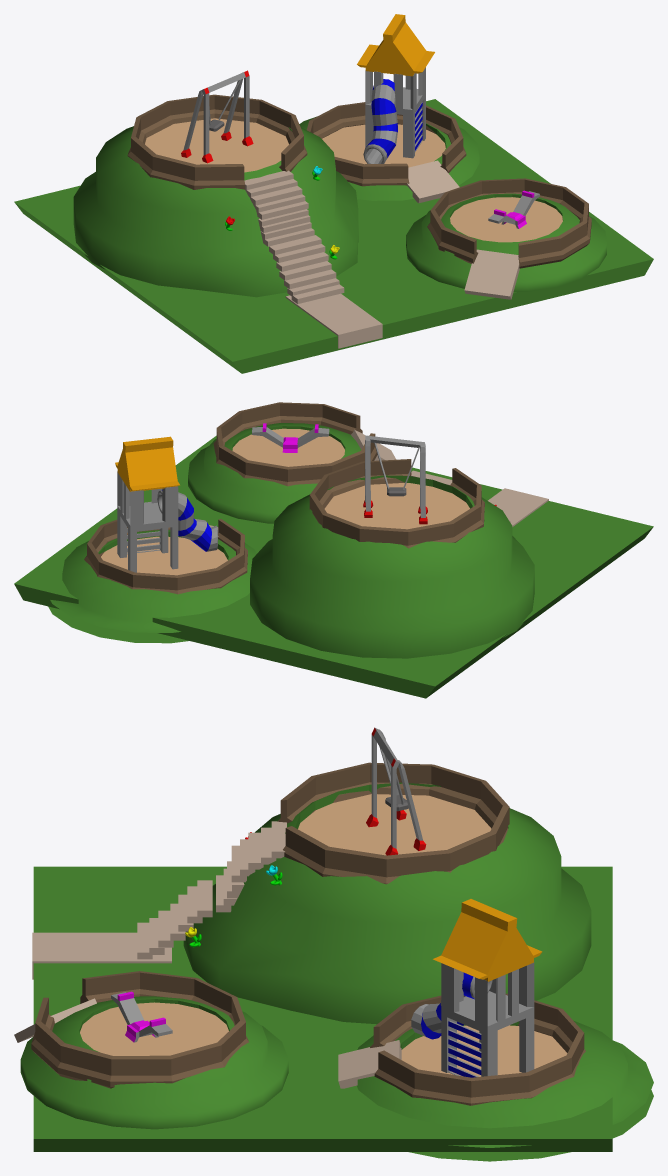
Rendered from numero3.fbx.
3 views of the same model, one above another, from view 1: azimuth 30°, elevation 25°; view 2: azimuth 150°, elevation 25°; view 3: azimuth 270°, elevation 25° (orthographic). The views are drawn at different scales.
Parts seen in each view (by area): view 1: numero3; view 2: numero3; view 3: numero3.
Boxes of the visible parts, <box> form: numero3: <box>14,14,653,373</box>; numero3: <box>14,402,653,698</box>; numero3: <box>14,727,653,1161</box>.
Bounding box in the file's own units: 426 × 165 × 421.
